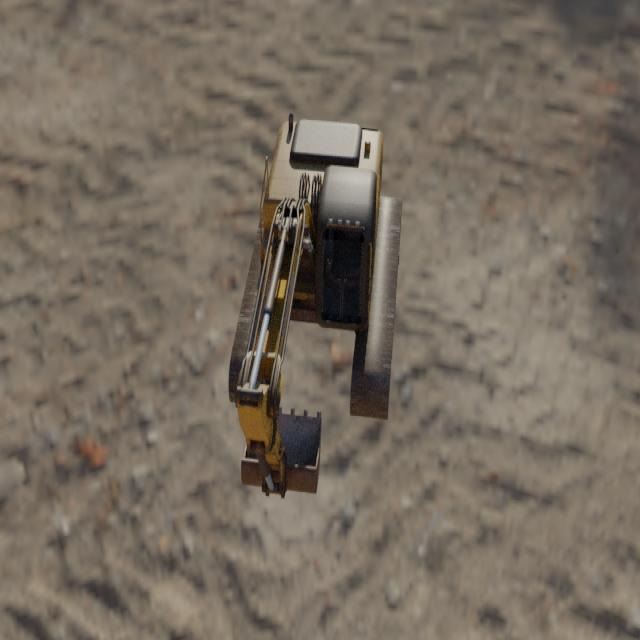excavator: (227, 112, 402, 499)
